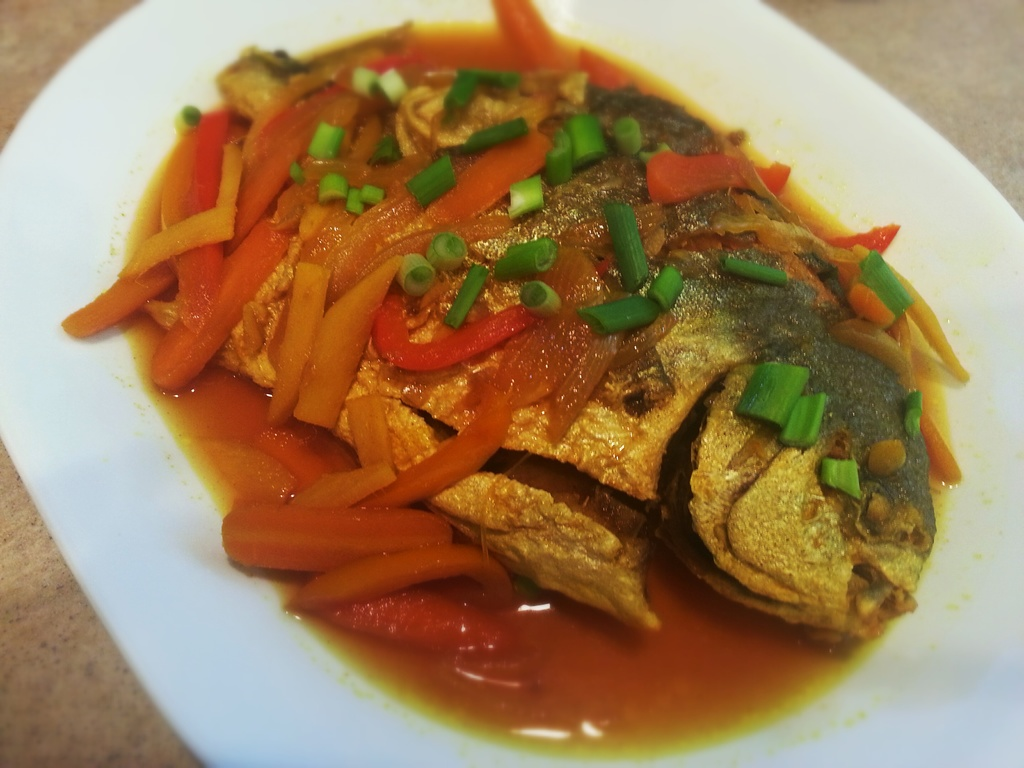Carrot: (108, 39, 923, 672)
